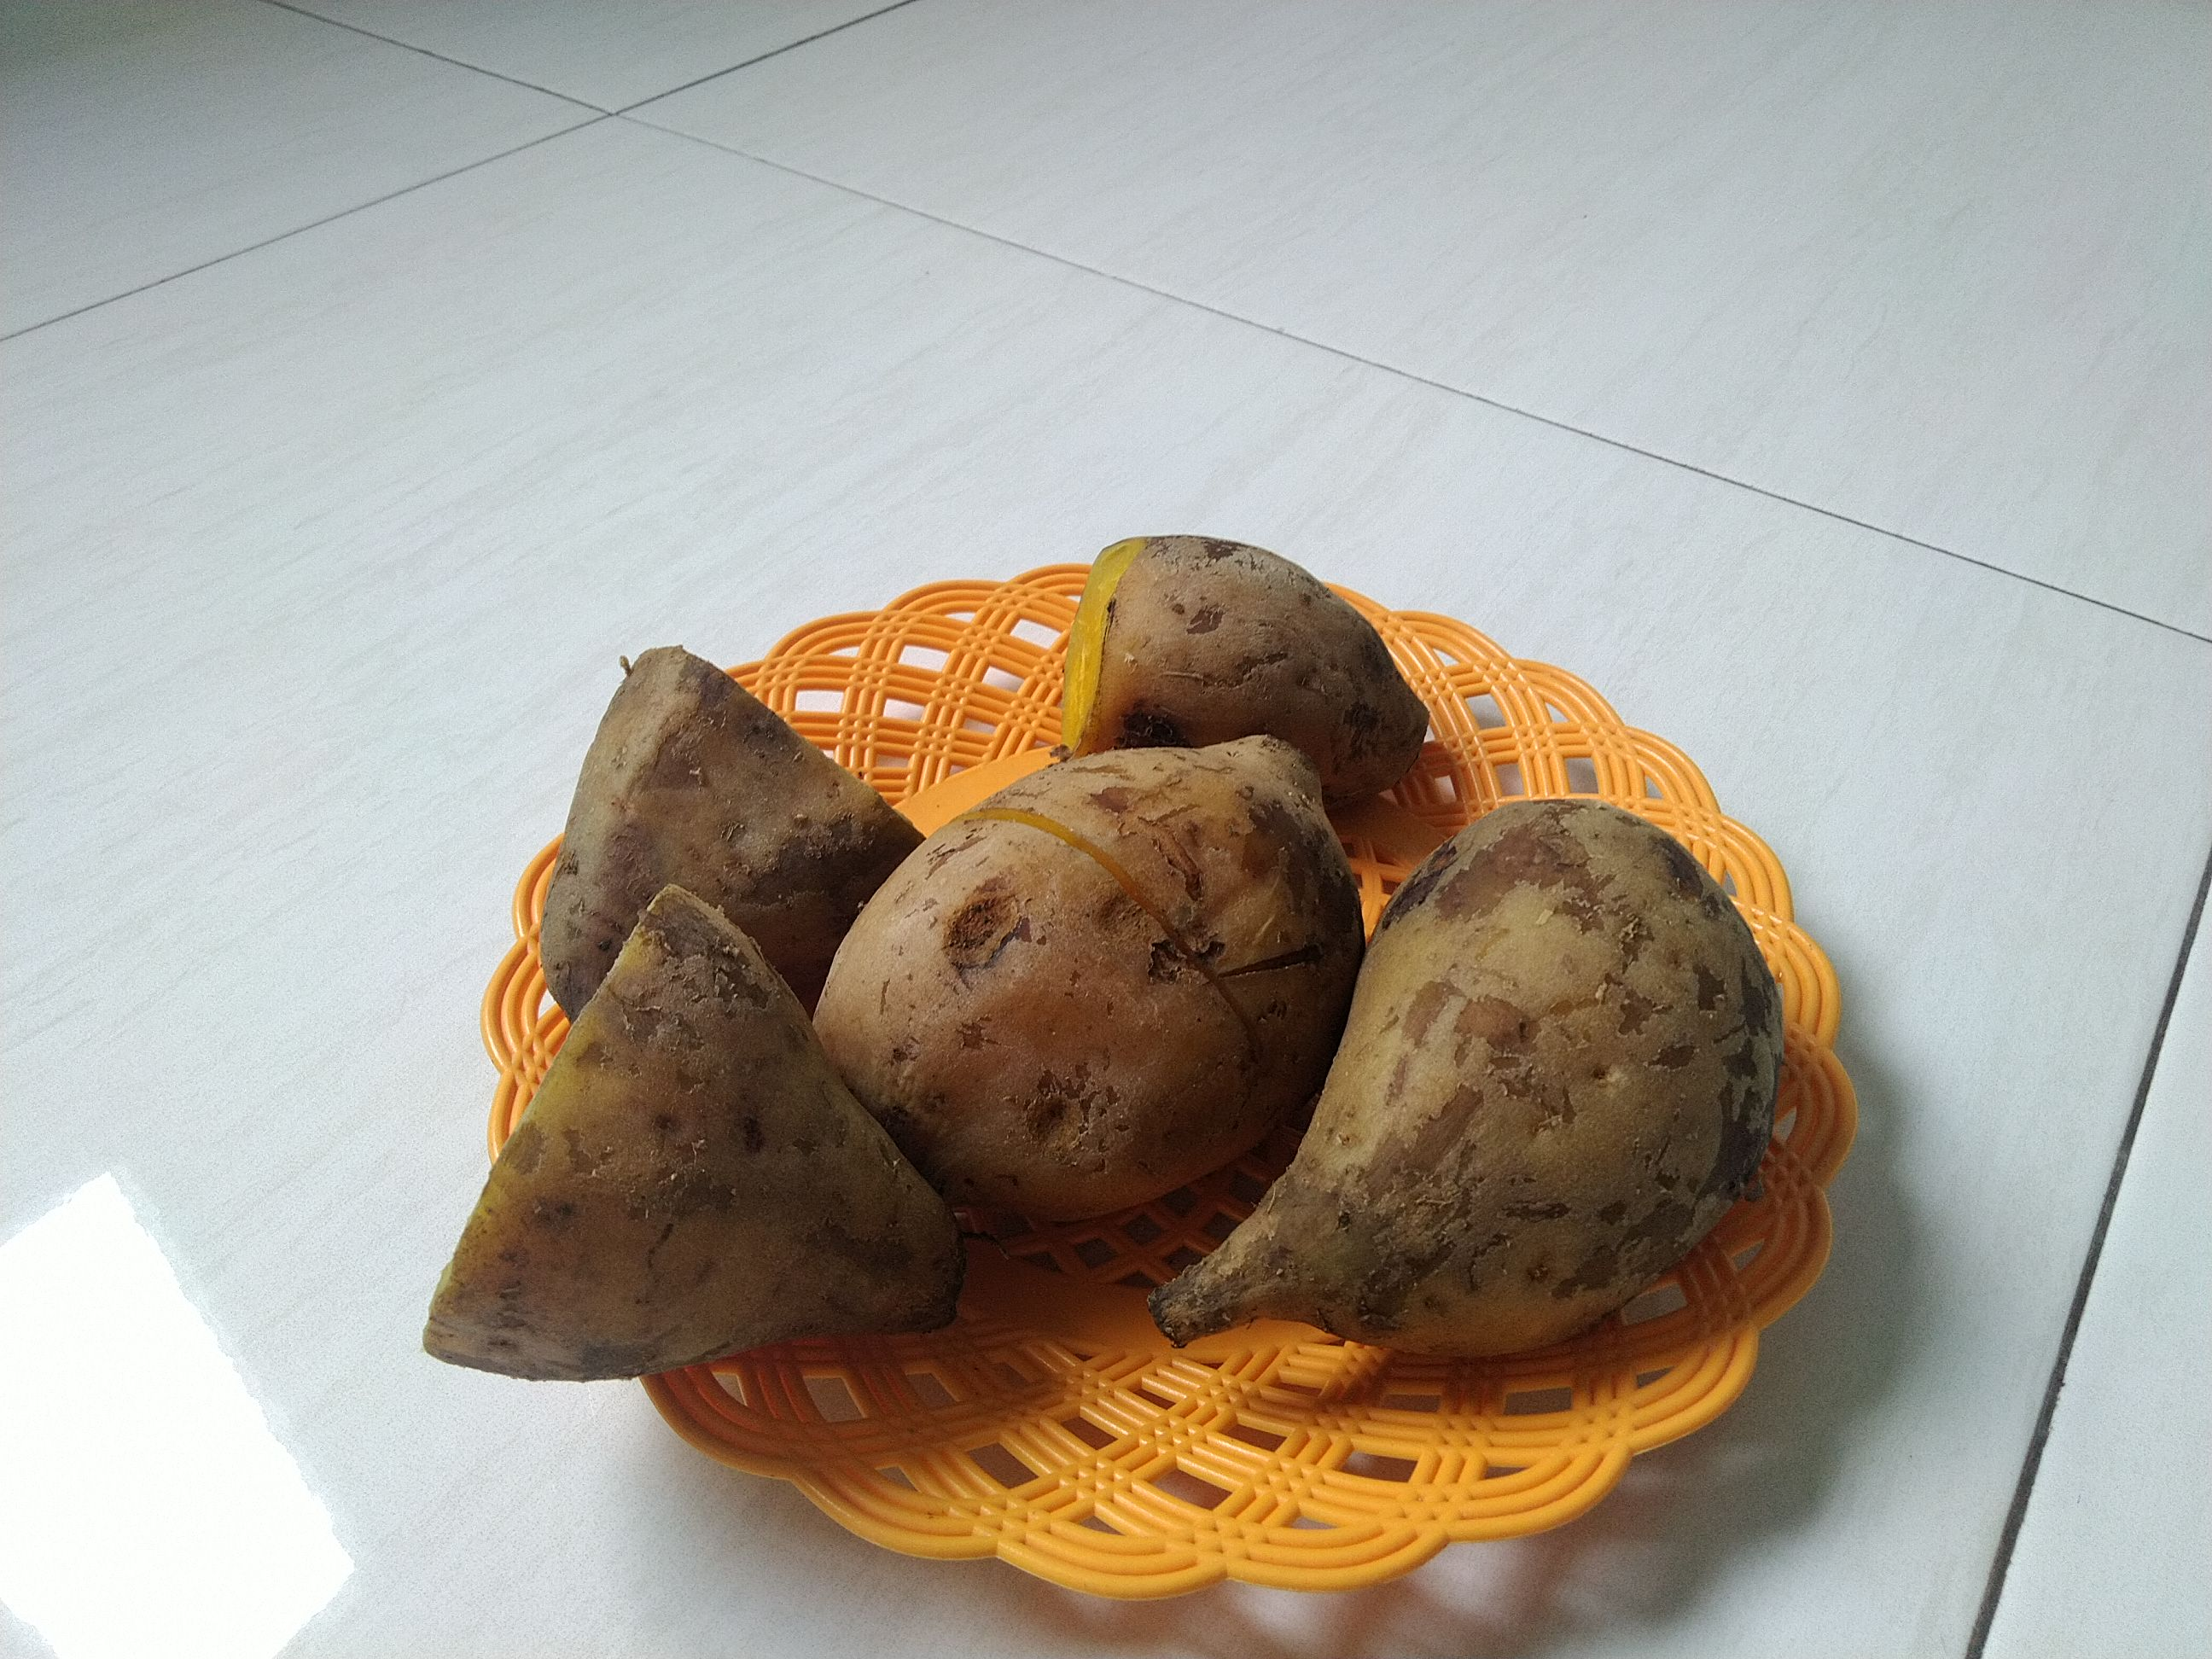ubi kuning: (1160, 774, 1792, 1392), (425, 873, 972, 1422), (803, 713, 1383, 1211), (536, 626, 928, 1011), (1047, 500, 1451, 809)
